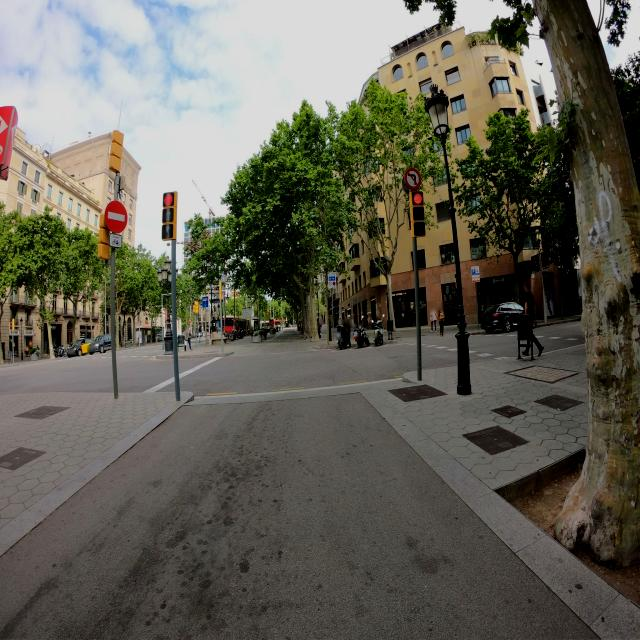bike: (353, 316, 370, 349), (337, 313, 351, 350), (373, 315, 385, 347)
car: (480, 300, 524, 334)
